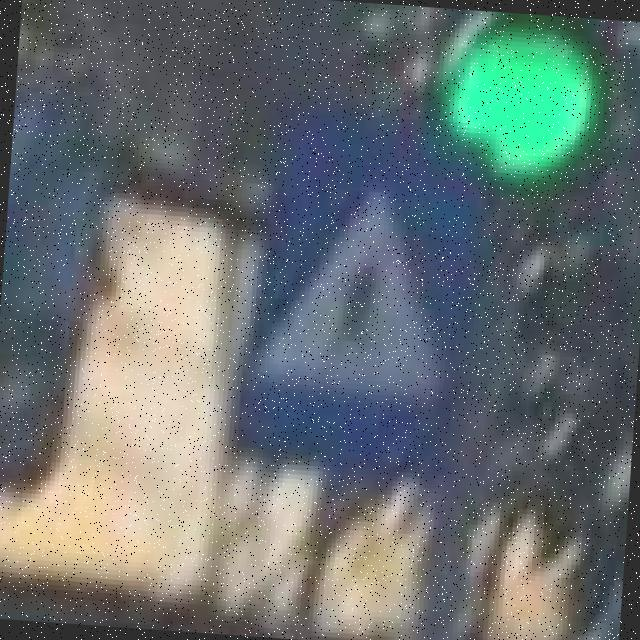Przejscie dla pieszych: (244, 132, 508, 492)
